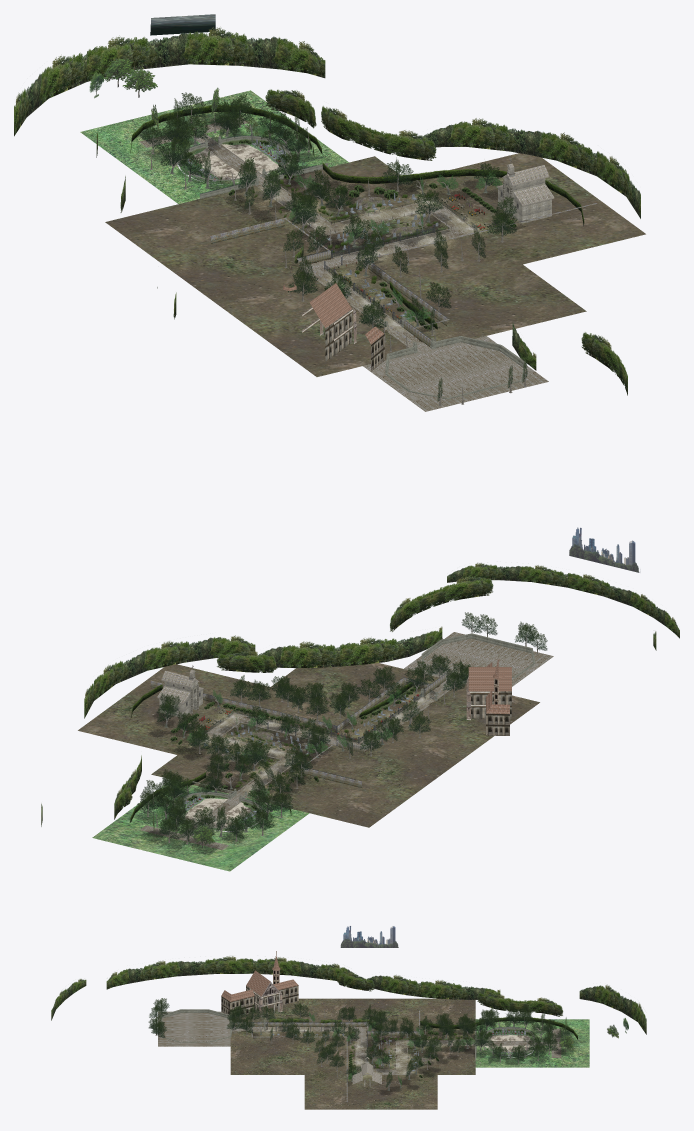
The model's file is scary_cemetery.glb.
3 views of the same model, one above another, from view 1: azimuth 30°, elevation 25°; view 2: azimuth 150°, elevation 25°; view 3: azimuth 270°, elevation 25° (orthographic). The views are drawn at different scales.
Parts seen in each view (by area): view 1: FrontSide_29, FrontSide_54, FrontSide_21, FrontSide_7, FrontSide_0, FrontSide_23, FrontSide_50, FrontSide_57, FrontSide_22, FrontSide_33, FrontSide_46, FrontSide_35 (+12 smaller); view 2: FrontSide_29, FrontSide_54, FrontSide_21, FrontSide_7, FrontSide_0, FrontSide_23, FrontSide_50, FrontSide_46, FrontSide_33, FrontSide_22, FrontSide_1, FrontSide_35 (+9 smaller); view 3: FrontSide_29, FrontSide_54, FrontSide_21, FrontSide_7, FrontSide_0, FrontSide_23, FrontSide_50, FrontSide_46, FrontSide_33, FrontSide_1, FrontSide_22, FrontSide_19 (+8 smaller).
Boxes of the visible parts, box(x1,y1,x2,y2) form: FrontSide_29: box(105, 153, 645, 376); FrontSide_54: box(141, 92, 527, 401); FrontSide_21: box(14, 27, 640, 370); FrontSide_7: box(139, 117, 548, 411); FrontSide_0: box(80, 90, 348, 203); FrontSide_23: box(134, 112, 527, 331); FrontSide_50: box(96, 89, 627, 395); FrontSide_57: box(130, 105, 584, 329); FrontSide_22: box(179, 135, 525, 401); FrontSide_33: box(150, 105, 526, 406); FrontSide_46: box(210, 203, 596, 347); FrontSide_35: box(177, 117, 502, 322); FrontSide_29: box(78, 663, 539, 827); FrontSide_54: box(136, 612, 547, 841); FrontSide_21: box(41, 562, 679, 826); FrontSide_7: box(140, 632, 553, 850); FrontSide_0: box(92, 782, 308, 871); FrontSide_23: box(136, 680, 424, 854); FrontSide_50: box(114, 575, 493, 819); FrontSide_46: box(150, 674, 451, 787); FrontSide_33: box(146, 621, 538, 843); FrontSide_22: box(174, 633, 535, 828); FrontSide_1: box(468, 659, 511, 714); FrontSide_35: box(154, 688, 401, 827); FrontSide_29: box(230, 998, 475, 1109); FrontSide_54: box(148, 998, 569, 1087); FrontSide_21: box(51, 956, 646, 1034); FrontSide_7: box(158, 1011, 561, 1074); FrontSide_0: box(475, 1019, 589, 1067); FrontSide_23: box(252, 1027, 577, 1095); FrontSide_50: box(269, 972, 563, 1030); FrontSide_46: box(232, 1010, 420, 1101); FrontSide_33: box(155, 1008, 563, 1090); FrontSide_1: box(221, 956, 298, 1001); FrontSide_22: box(160, 1009, 534, 1060); FrontSide_19: box(221, 985, 298, 1016).
Size of what is drawn, in the model's own units: 1984 by 307 by 3505.
Materials: 60 (60 with a texture image).
